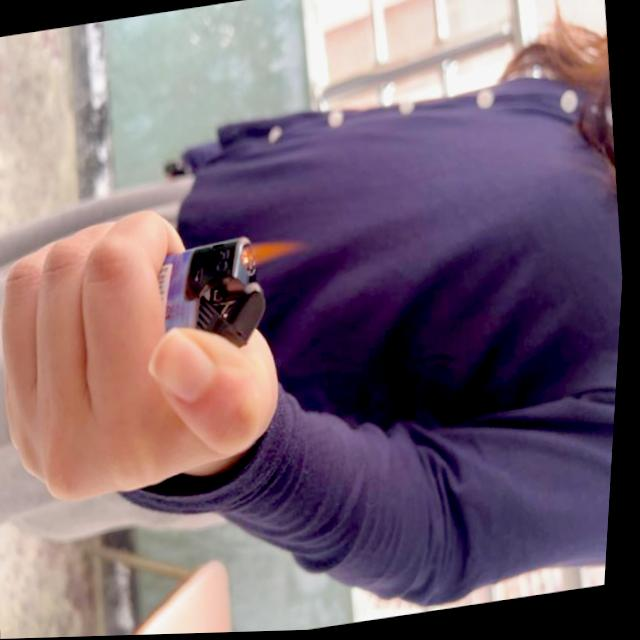helmet: (241, 233, 314, 273)
